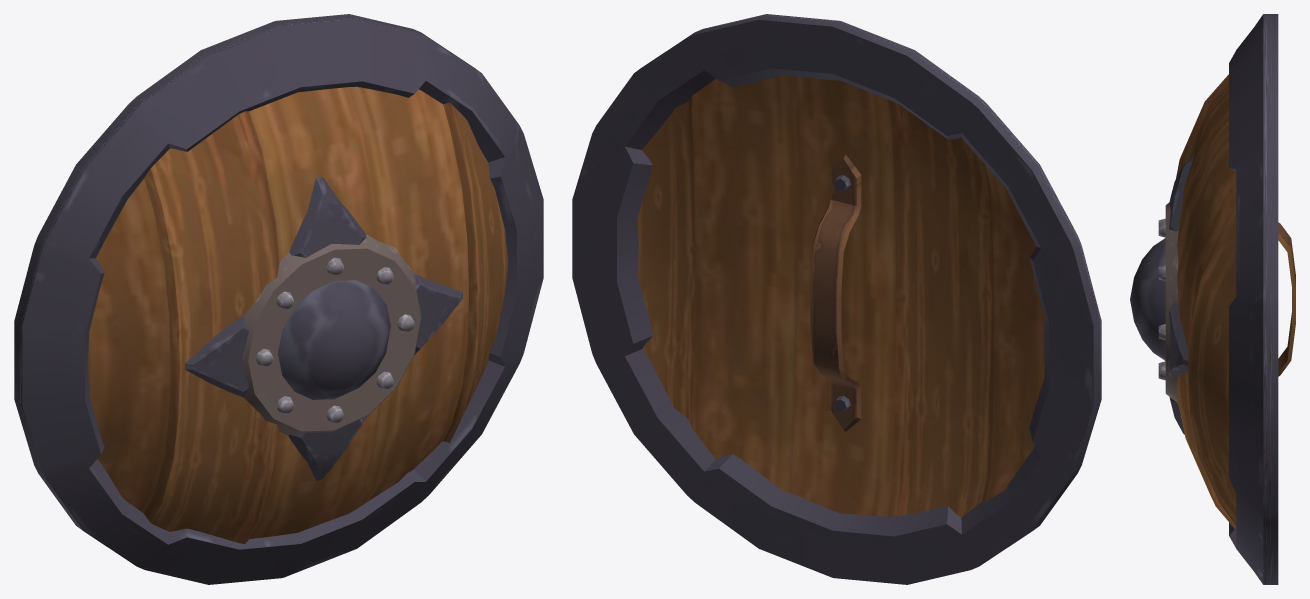
File: Shield Wooden.glb
The picture shows the model from 3 angles, left to right: view 1: azimuth 30°, elevation 25°; view 2: azimuth 150°, elevation 25°; view 3: azimuth 270°, elevation 25°; orthographic projection. The views are drawn at different scales.
Parts seen in each view (by area): view 1: Shield_Wooden; view 2: Shield_Wooden; view 3: Shield_Wooden.
Part boxes in pixels (x1,y1,x2,y2): Shield_Wooden: (14,14,543,584); Shield_Wooden: (572,14,1101,584); Shield_Wooden: (1130,14,1295,584).
Size of the model in its own units: 0.6146 by 0.6209 by 0.1788.
Materials: 3 (3 with a texture image).
